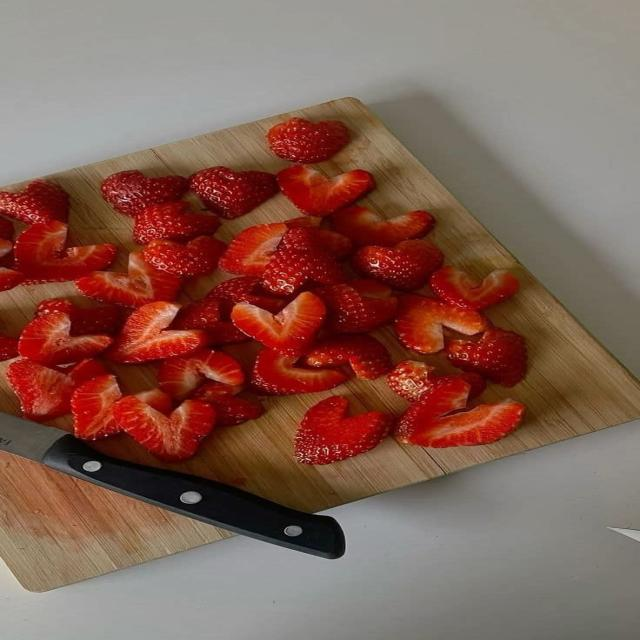strawberry sliced: (395, 380, 525, 447), (220, 218, 351, 275), (114, 396, 215, 461), (295, 397, 392, 464), (14, 221, 117, 283), (108, 302, 209, 363), (7, 359, 106, 421), (231, 292, 326, 355), (75, 252, 181, 306), (395, 294, 487, 353), (263, 229, 344, 296), (278, 165, 374, 216), (19, 313, 113, 365), (447, 327, 527, 386), (353, 240, 443, 291), (190, 166, 278, 218), (314, 280, 397, 333), (158, 349, 244, 399), (252, 349, 347, 394), (332, 206, 435, 247), (387, 360, 485, 402), (101, 171, 188, 216), (430, 266, 519, 309), (306, 335, 392, 379), (172, 298, 250, 345), (134, 201, 219, 244), (267, 118, 349, 162), (219, 223, 287, 275), (143, 236, 226, 276), (71, 375, 122, 439), (72, 374, 122, 439), (35, 299, 124, 335), (207, 276, 285, 317), (0, 180, 69, 225), (192, 383, 263, 426), (281, 228, 353, 259), (387, 360, 435, 402), (213, 395, 263, 426), (172, 299, 220, 331), (432, 372, 486, 398), (60, 359, 107, 387), (0, 239, 25, 291), (191, 382, 242, 402), (208, 321, 250, 345), (134, 389, 173, 414), (348, 279, 392, 299), (0, 268, 25, 291), (0, 335, 18, 360), (0, 239, 13, 266), (0, 216, 14, 241)
